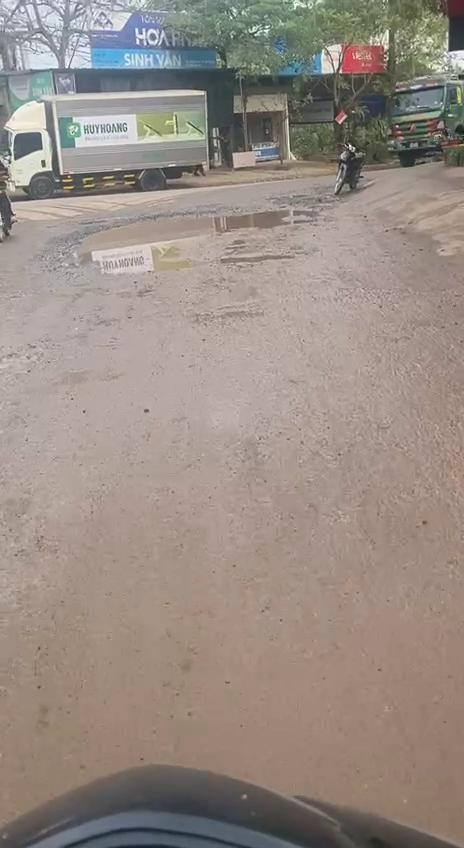pothole: (51, 199, 326, 278)
